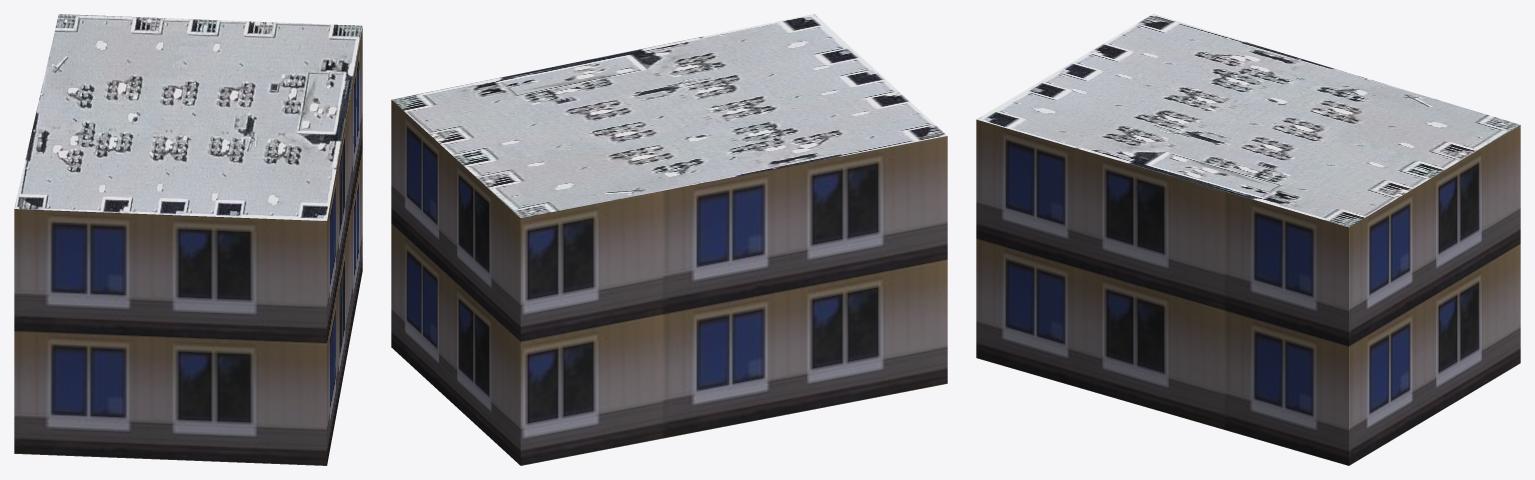
File: ResTex__4374.fbx
3 views of the same model, side by side, from view 1: azimuth 30°, elevation 25°; view 2: azimuth 150°, elevation 25°; view 3: azimuth 270°, elevation 25° (orthographic). The views are drawn at different scales.
Visible parts, largest first — view 1: CityEngineMaterial_5_m, CityEngineMaterial_4_m; view 2: CityEngineMaterial_5_m, CityEngineMaterial_4_m; view 3: CityEngineMaterial_5_m, CityEngineMaterial_4_m.
Boxes of the visible parts, x1,y1,x2,y2 form: CityEngineMaterial_5_m: (14,27,362,465); CityEngineMaterial_4_m: (14,14,362,220); CityEngineMaterial_5_m: (391,100,947,465); CityEngineMaterial_4_m: (392,14,946,217); CityEngineMaterial_5_m: (976,119,1520,465); CityEngineMaterial_4_m: (977,14,1520,227).
Bounding box in the file's own units: 11.52 × 6 × 12.41.
2 materials, 2 textured.
